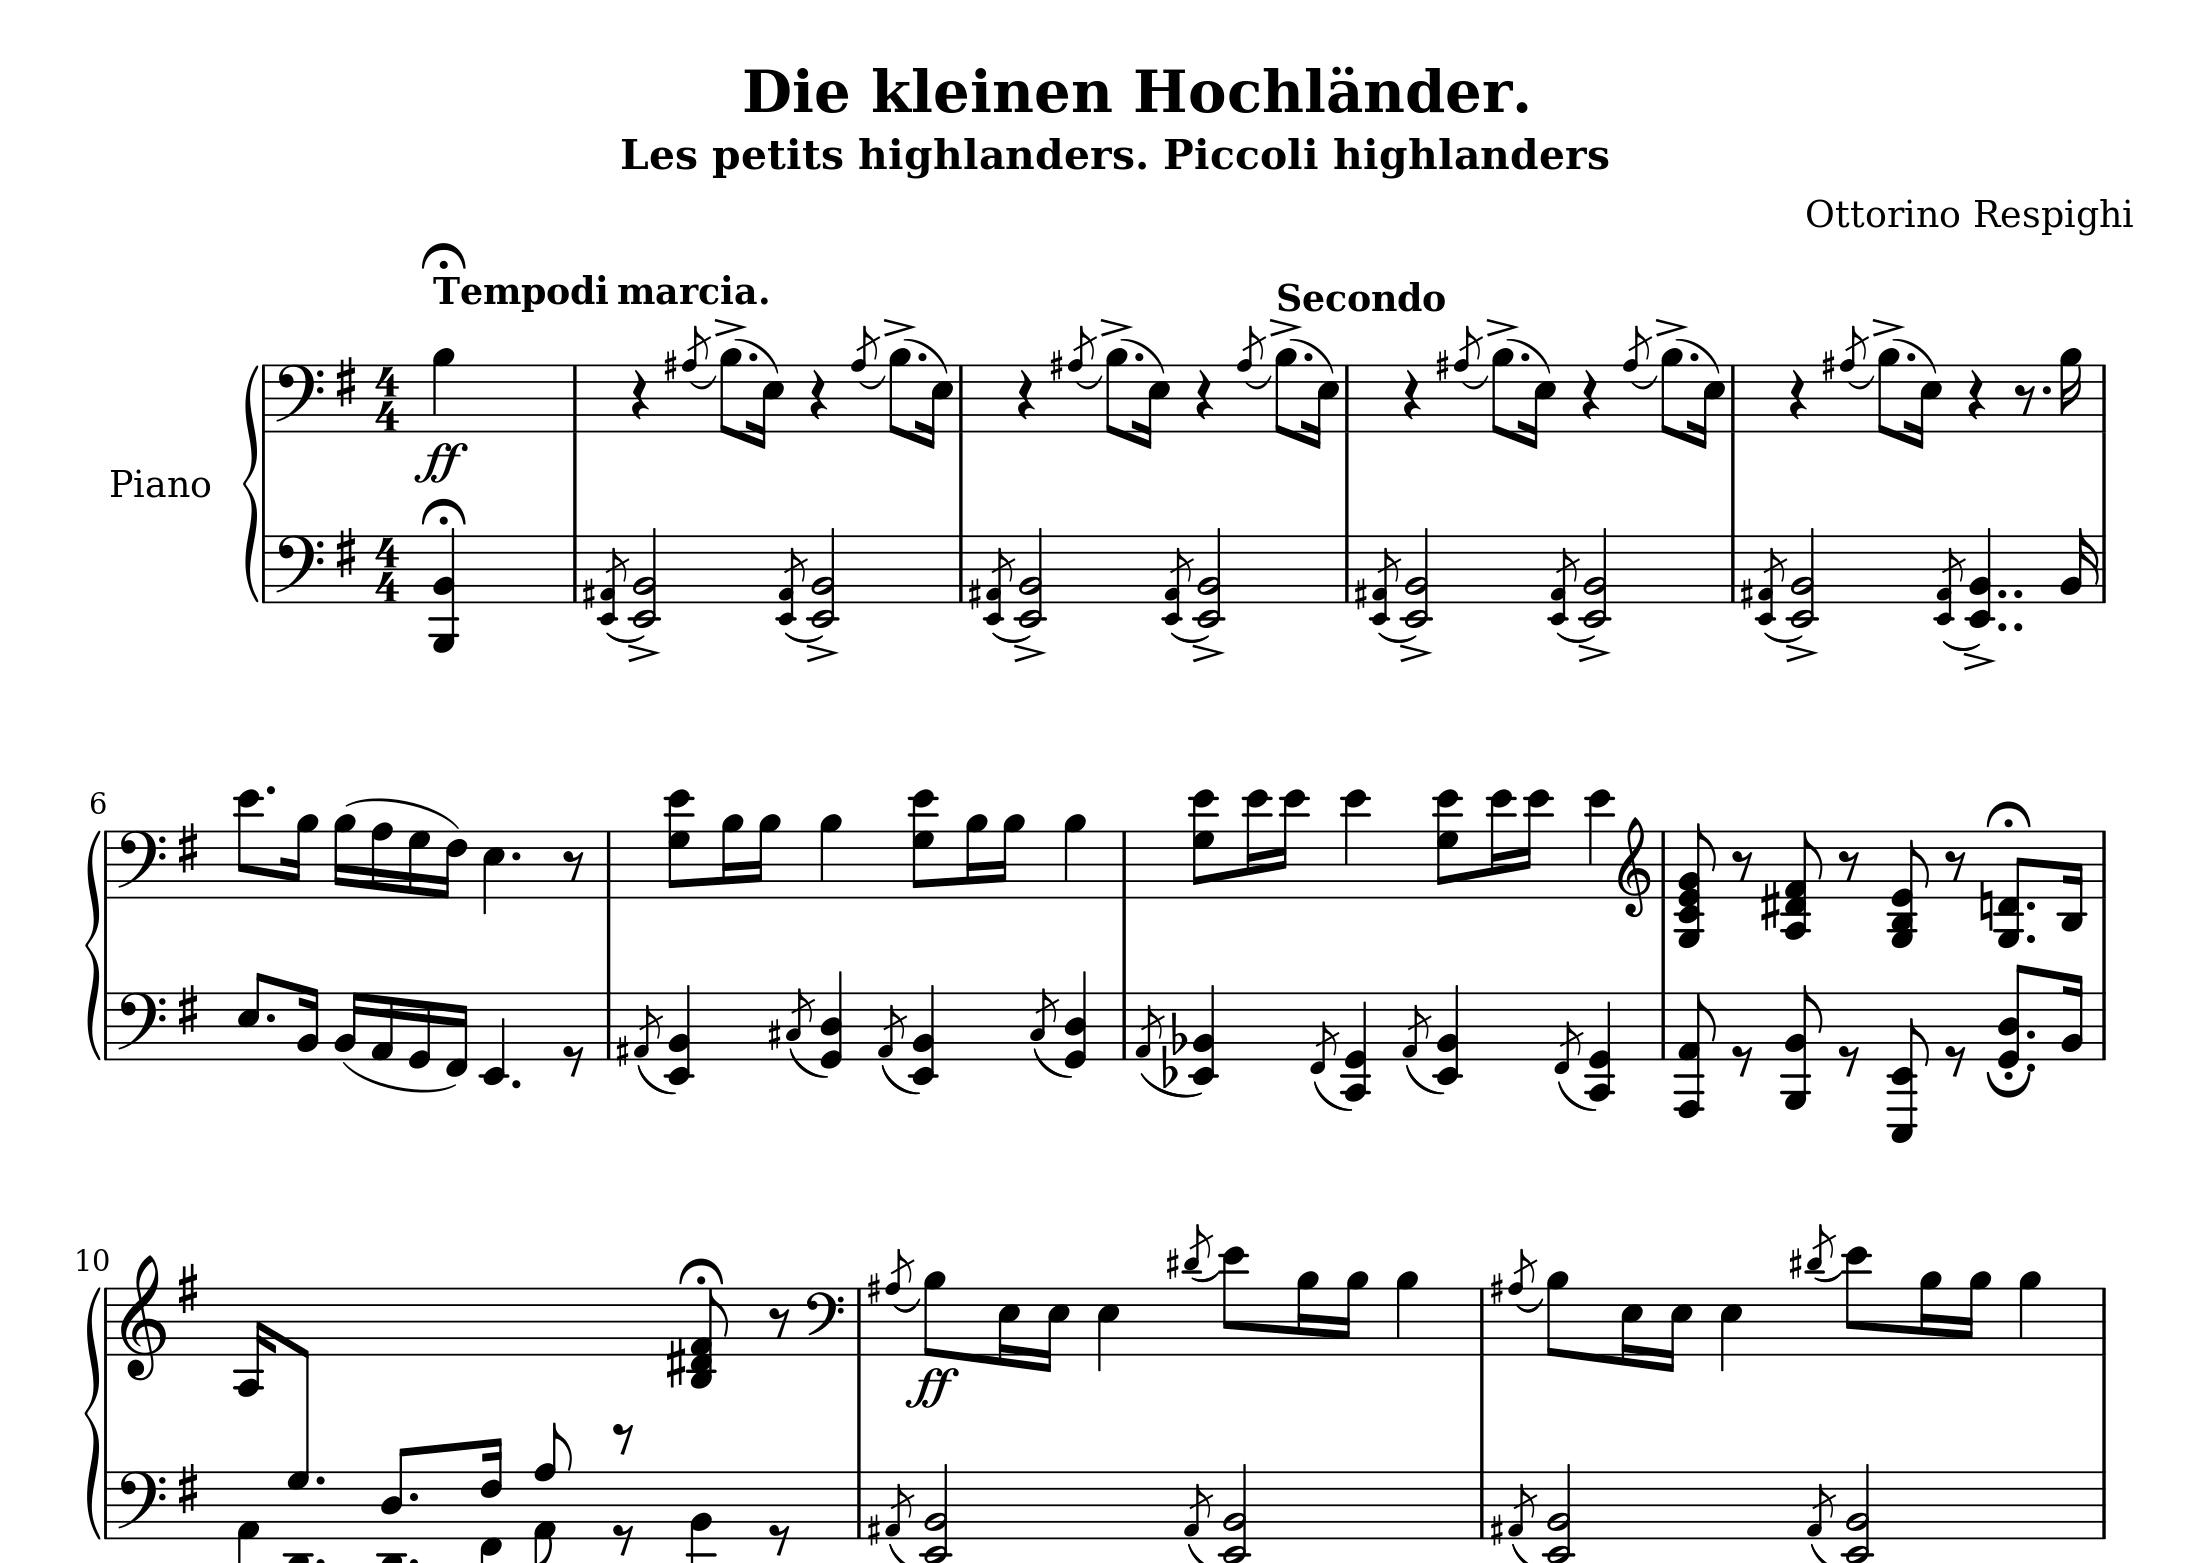0: (91, 1243, 108, 1274)
1: (74, 1245, 90, 1274)
16_-1: (443, 990, 469, 1078)
16_-3: (2059, 829, 2086, 934)
16_-4: (233, 1284, 272, 1397)
16_0: (406, 990, 433, 1069)
16_1: (369, 990, 396, 1062)
16_12: (1274, 787, 1308, 898), (1517, 787, 1550, 898), (1243, 787, 1269, 898), (1487, 787, 1512, 898)
16_2: (2059, 526, 2098, 604), (332, 990, 364, 1061), (2060, 971, 2084, 1061), (294, 983, 320, 1061)
16_5: (749, 365, 785, 452), (919, 364, 954, 450), (1304, 364, 1340, 450), (1690, 364, 1725, 450), (1908, 364, 1944, 450), (1522, 365, 1556, 452), (1137, 365, 1171, 450), (1039, 1286, 1071, 1374), (1661, 1286, 1693, 1374), (996, 1286, 1022, 1368), (1619, 1286, 1644, 1368)
16_6: (436, 827, 467, 898)
16_7: (406, 827, 431, 900)
16_8: (369, 820, 392, 900)
16_9: (284, 810, 320, 898), (1335, 1269, 1369, 1357), (1957, 1269, 1991, 1357), (749, 812, 782, 902), (995, 810, 1025, 900), (1294, 1269, 1318, 1358), (2059, 347, 2082, 435), (332, 812, 355, 900), (721, 812, 744, 900), (964, 812, 988, 900), (1918, 1269, 1940, 1357)
2_-2_2: (1216, 1462, 1254, 1563), (1539, 1462, 1577, 1563), (1578, 526, 1614, 629), (919, 1463, 954, 1563), (628, 528, 661, 631), (1013, 528, 1047, 631), (1193, 526, 1226, 629), (1401, 524, 1435, 628), (1790, 526, 1824, 629), (807, 528, 841, 629)
4: (372, 398, 399, 431), (372, 568, 399, 602), (374, 364, 399, 399), (374, 533, 399, 568)
4_-2: (479, 990, 507, 1084)
4_-2_2: (1431, 984, 1467, 1088), (1962, 526, 1996, 629), (1188, 984, 1221, 1088), (907, 984, 941, 1084), (665, 984, 695, 1086)
4_-4_0: (1338, 991, 1374, 1105)
4_-5_2: (431, 528, 462, 655)
4_0_4: (817, 971, 846, 1072), (1062, 973, 1089, 1071)
4_12: (1341, 787, 1370, 902), (1587, 787, 1614, 898)
4_5: (1095, 1286, 1122, 1374), (480, 827, 506, 917), (1719, 1286, 1742, 1374)
4_9: (817, 810, 844, 900), (430, 345, 457, 433), (1062, 812, 1088, 900), (1394, 1269, 1419, 1357), (2018, 1269, 2042, 1357)
6: (90, 788, 107, 814)
8_-4_0: (1583, 990, 1617, 1105)
8_-4_1: (1673, 990, 1720, 1120)
8_-5_-1: (1994, 829, 2027, 949)
8_-5_2: (1780, 984, 1825, 1110)
8_-9_-2: (1885, 991, 1932, 1142)
8_0_4: (1996, 961, 2027, 1071)
8_1: (235, 1468, 261, 1563)
8_12: (1220, 1243, 1248, 1357), (1842, 1243, 1871, 1357), (235, 787, 262, 900)
8_4: (377, 1445, 413, 1539)
8_4th: (1676, 820, 1715, 951)
8_5: (237, 969, 267, 1061)
8_7_12: (1431, 788, 1463, 900), (1188, 788, 1220, 900), (905, 787, 937, 898), (665, 788, 697, 898)
8_9: (886, 343, 912, 440), (717, 345, 743, 440), (1274, 345, 1298, 440), (1660, 345, 1683, 438), (1105, 347, 1128, 436), (1490, 347, 1514, 436), (1876, 347, 1900, 436), (922, 1269, 946, 1358), (1544, 1269, 1568, 1358)
8_th: (1885, 832, 1930, 951), (1781, 827, 1824, 941), (687, 1287, 729, 1389)
Accent_above: (1098, 315, 1135, 335), (1484, 315, 1521, 335), (1869, 315, 1907, 335), (1265, 316, 1303, 337), (626, 641, 660, 661), (881, 316, 917, 335), (1653, 316, 1688, 335), (804, 643, 839, 661), (1189, 643, 1225, 661), (1397, 643, 1433, 661), (1783, 643, 1819, 661), (1961, 651, 1996, 670), (1012, 643, 1045, 661), (1577, 643, 1610, 661), (712, 316, 748, 333)
Acciaccature: (1803, 1221, 1834, 1357), (1182, 1220, 1211, 1352), (981, 535, 1015, 629), (1509, 1247, 1538, 1357), (597, 535, 629, 629), (1457, 321, 1484, 433), (1754, 535, 1786, 628), (775, 535, 807, 628), (1369, 535, 1401, 628), (1546, 535, 1578, 628), (1934, 535, 1966, 628), (1624, 321, 1651, 431), (886, 1247, 913, 1357), (1238, 323, 1265, 431), (683, 325, 710, 431), (1162, 535, 1193, 628), (853, 321, 878, 431), (1071, 321, 1096, 431), (1842, 321, 1868, 431), (1551, 993, 1583, 1079), (1309, 991, 1338, 1078), (1803, 1468, 1835, 1543), (1181, 1468, 1211, 1543), (1507, 1468, 1536, 1544), (1029, 986, 1057, 1061), (633, 990, 661, 1062), (785, 986, 814, 1057), (878, 991, 907, 1062), (1402, 993, 1431, 1064), (885, 1468, 913, 1539), (1137, 991, 1162, 1062)
Brace: (81, 1286, 101, 1539)
Double_dot: (1996, 585, 2027, 602), (1996, 619, 2023, 633)
Fclef: (113, 827, 167, 900), (113, 988, 167, 1061), (272, 362, 325, 435), (272, 533, 325, 606), (115, 1468, 167, 1539), (804, 1286, 846, 1357)
Fermata_above: (675, 1255, 726, 1286), (1984, 1067, 2033, 1098), (1984, 798, 2032, 829), (421, 240, 465, 272), (420, 497, 465, 526)
Flat: (1167, 1010, 1186, 1056)
Gclef: (117, 1253, 167, 1382), (1616, 815, 1653, 919)
Natural: (1978, 880, 1994, 932)
Pno: (108, 465, 211, 501)
Rests4: (1013, 367, 1039, 425), (805, 369, 831, 425), (1399, 367, 1423, 425), (628, 367, 651, 423), (1193, 369, 1216, 425), (1578, 367, 1602, 423), (1785, 367, 1808, 423), (1966, 367, 1988, 421)
Rests8: (611, 1419, 636, 1456), (611, 1521, 638, 1555), (1729, 1042, 1754, 1078), (1837, 1042, 1863, 1078), (766, 1304, 792, 1340), (766, 1521, 792, 1555), (2013, 381, 2037, 416), (562, 847, 585, 883), (1837, 847, 1861, 883), (562, 1042, 585, 1078), (1731, 847, 1754, 881), (1944, 847, 1967, 881), (1944, 1044, 1967, 1078)
Sharp: (174, 1260, 201, 1316), (333, 354, 359, 409), (333, 524, 359, 580), (174, 981, 200, 1037), (174, 1462, 200, 1516), (176, 820, 200, 876), (663, 1336, 687, 1390), (1758, 880, 1781, 932), (577, 575, 597, 611), (963, 575, 983, 611), (1350, 573, 1369, 611), (1819, 347, 1837, 382), (1736, 573, 1754, 609), (612, 1032, 629, 1069), (765, 1017, 782, 1052), (1489, 1270, 1506, 1306), (661, 348, 678, 382), (864, 1272, 881, 1306), (1164, 1247, 1181, 1281), (1786, 1247, 1803, 1281), (864, 1512, 881, 1546), (1049, 347, 1064, 382), (1435, 348, 1450, 382), (1489, 1512, 1504, 1546)
Single_barline: (1115, 829, 1133, 897), (951, 365, 969, 431), (599, 831, 617, 897), (849, 1472, 868, 1538), (1654, 991, 1671, 1059), (849, 1287, 866, 1355), (1473, 1470, 1490, 1538), (2094, 364, 2111, 430), (1338, 365, 1355, 431), (1724, 365, 1741, 431), (567, 535, 584, 601), (952, 535, 969, 601), (1338, 535, 1355, 601), (1724, 535, 1741, 601), (2094, 535, 2111, 601), (100, 831, 117, 897), (1472, 1287, 1489, 1353), (2094, 1287, 2111, 1353), (2094, 1472, 2111, 1538), (567, 365, 584, 430), (2096, 831, 2111, 898), (1116, 991, 1132, 1059), (2094, 991, 2110, 1059), (1654, 831, 1670, 897), (601, 991, 616, 1057), (257, 365, 272, 430), (101, 991, 115, 1059), (100, 1287, 113, 1355), (101, 1470, 113, 1538), (259, 535, 271, 601)
Slur: (240, 364, 261, 602), (83, 831, 103, 1061), (345, 795, 460, 831), (343, 1059, 455, 1093), (1287, 337, 1338, 374), (1890, 337, 1940, 374), (1504, 337, 1555, 374), (902, 337, 951, 374), (1118, 337, 1167, 374), (732, 337, 782, 374), (1673, 337, 1724, 372), (1138, 1071, 1201, 1098), (1030, 1045, 1074, 1078), (788, 1045, 831, 1078), (1402, 1062, 1445, 1094), (1555, 1079, 1597, 1111), (636, 1062, 677, 1094), (880, 1062, 920, 1094), (1311, 1079, 1353, 1110), (1807, 1541, 1842, 1563), (1507, 1543, 1543, 1561), (1073, 374, 1105, 391), (1458, 374, 1490, 391), (890, 1296, 922, 1313), (1846, 374, 1876, 391), (687, 374, 717, 391), (1812, 1269, 1846, 1284), (783, 631, 826, 643), (991, 631, 1034, 643), (1512, 1297, 1544, 1313), (858, 374, 886, 391), (1171, 631, 1211, 643), (1556, 631, 1597, 643), (1942, 639, 1983, 651), (1242, 374, 1272, 389), (1764, 631, 1803, 643), (1629, 374, 1658, 389), (606, 633, 646, 643), (1379, 633, 1419, 643), (1189, 1270, 1220, 1284)
TimeSig: (372, 364, 403, 431), (372, 535, 403, 602)
dot: (1903, 348, 1922, 364), (1517, 348, 1534, 364), (2023, 930, 2038, 946), (509, 1074, 524, 1089), (262, 781, 276, 797), (509, 847, 523, 863), (313, 1472, 328, 1485), (406, 1489, 420, 1504), (2025, 898, 2038, 912), (264, 1010, 277, 1023), (2025, 1027, 2037, 1040)
ff: (903, 1363, 959, 1411), (413, 440, 469, 484)
